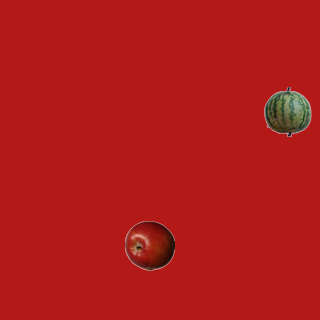Apple Braeburn: (124, 220, 174, 270)
Watermelon: (262, 86, 312, 136)
